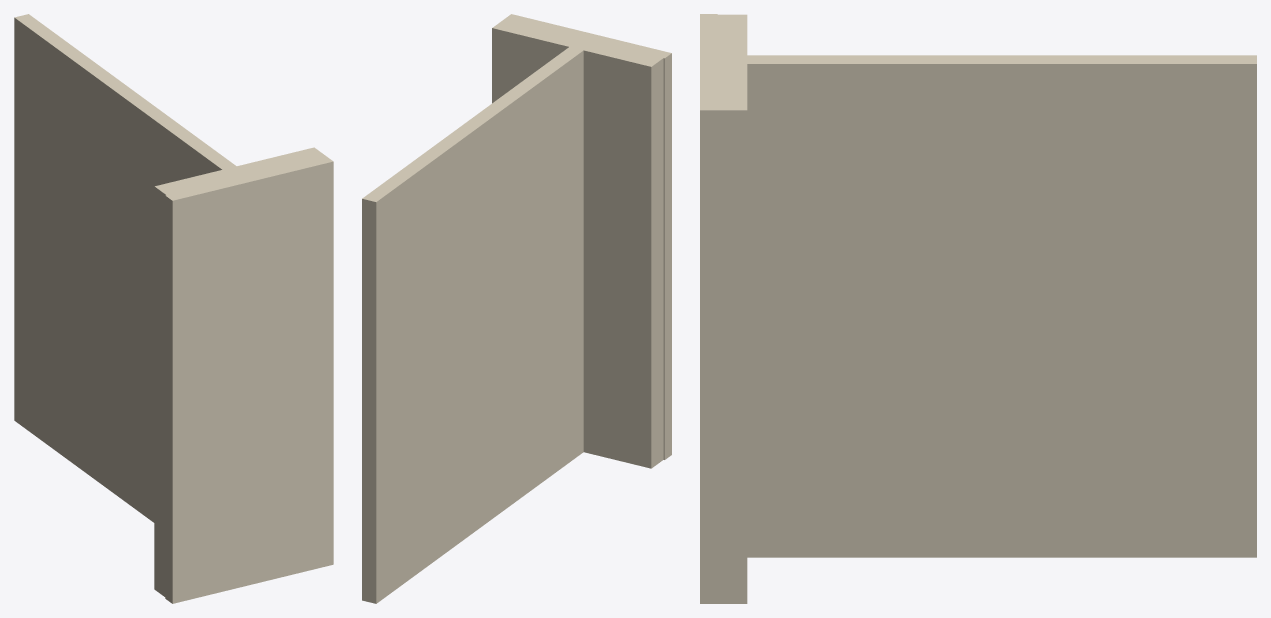
The picture shows the model from 3 angles, left to right: view 1: azimuth 30°, elevation 25°; view 2: azimuth 150°, elevation 25°; view 3: azimuth 270°, elevation 25°; orthographic projection. The views are drawn at different scales.
Visible parts, largest first — view 1: A-FF-WALL-005; view 2: A-FF-WALL-005; view 3: A-FF-WALL-005.
Boxes of the visible parts, x1,y1,x2,y2 form: A-FF-WALL-005: (14,14,333,603); A-FF-WALL-005: (362,14,671,603); A-FF-WALL-005: (700,14,1256,603).
Bounding box in the file's own units: 1.01 × 2.42 × 2.47.
